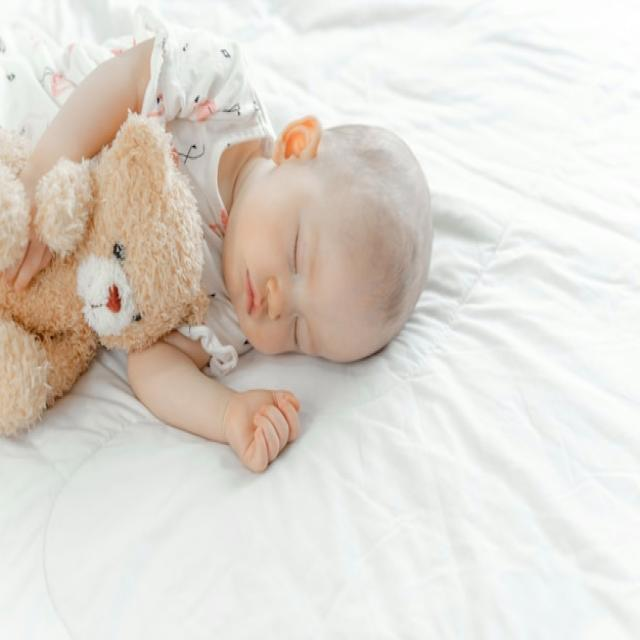child: (0, 25, 440, 472)
